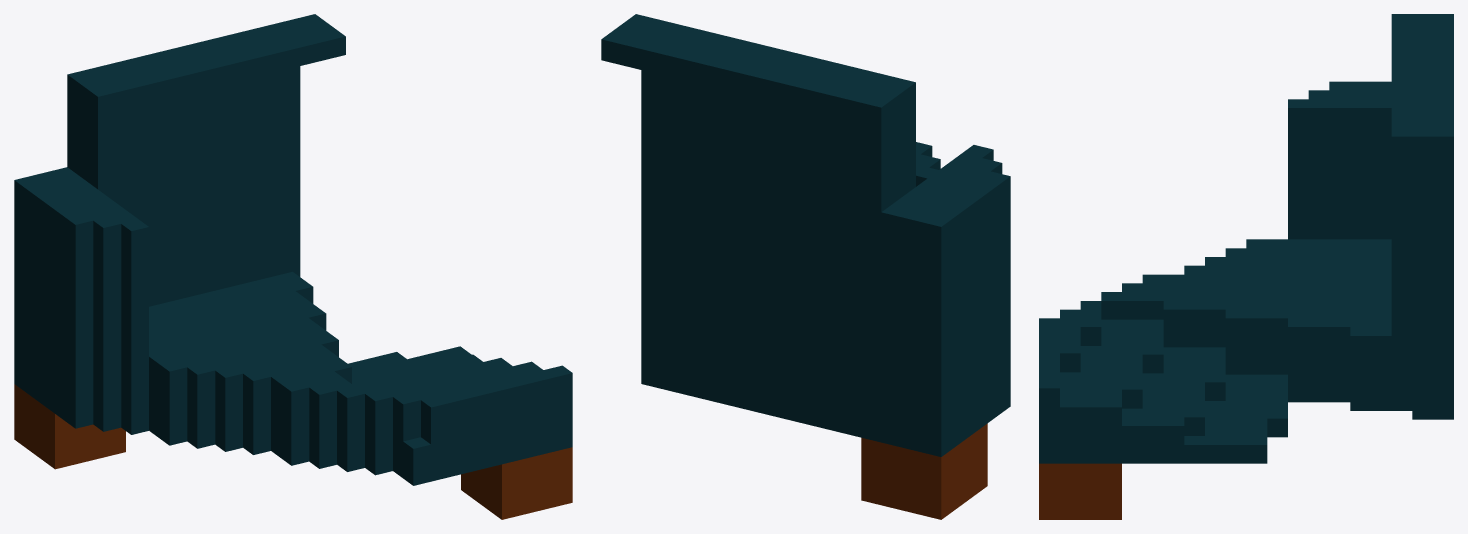
File: Chair4.obj
3 renders of one model, left to right at view 1: azimuth 30°, elevation 25°; view 2: azimuth 150°, elevation 25°; view 3: azimuth 270°, elevation 25°, orthographic. The views are drawn at different scales.
Parts seen in each view (by area): view 1: Chair4; view 2: Chair4; view 3: Chair4.
Part boxes in pixels (x1,y1,x2,y2): Chair4: (14, 14, 572, 519); Chair4: (601, 14, 1010, 519); Chair4: (1039, 14, 1453, 519).
Size of the model in its own units: 20 by 19 by 20.
Materials: 1 (1 with a texture image).
